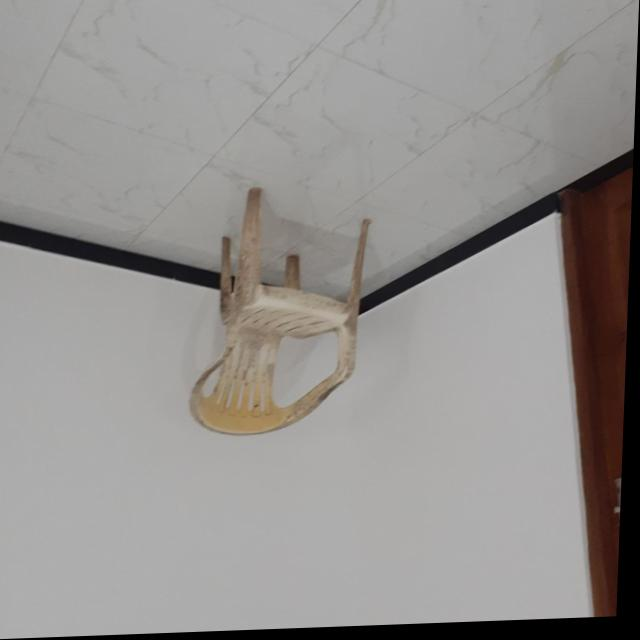Chair: (192, 184, 376, 442)
